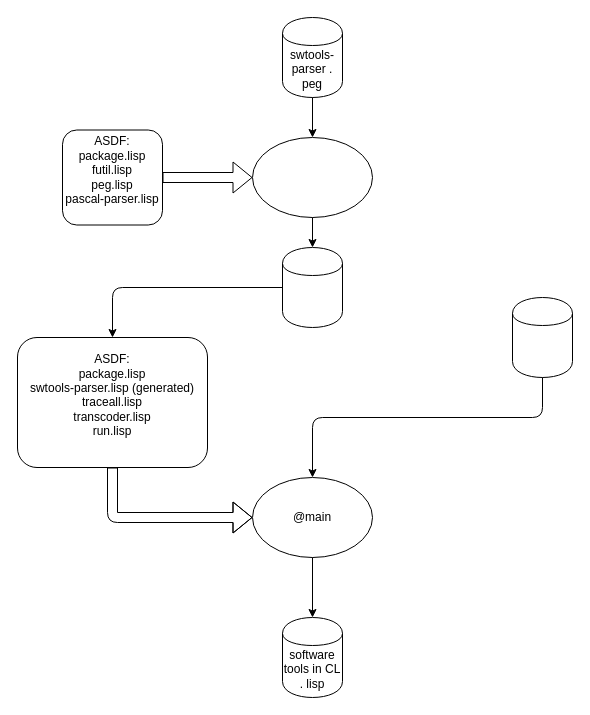
This 590x715 diagram has some shape labels left out. Here are the shapes that lost their labels. From the top down, the centre of each, then its label:
the point at 312,177: @create-pascal-parser
the point at 312,287: swtools-parser . lisp
the point at 542,337: src . p
